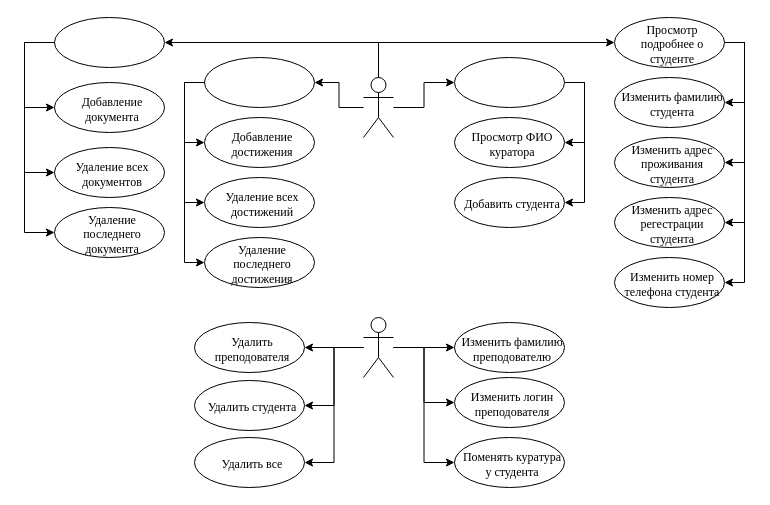
Image size: 770x505. Some labels were removed from this diagram. The shapes that lost their labels are listed below. From the top down, each one's centre as x and y in pixels, then its label:
At (x=109, y=42): "Просмотр документов студента".
At (x=259, y=82): "Просмотр достижений студента".
At (x=509, y=82): "Просмотр списка студентов".
At (x=378, y=107): "Куратор группы".
At (x=378, y=347): "Администратор".
